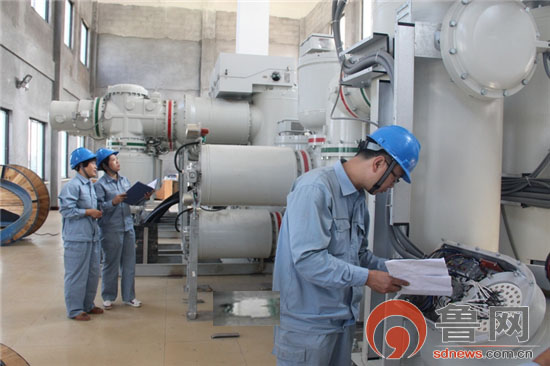oil: (213, 289, 280, 328)
